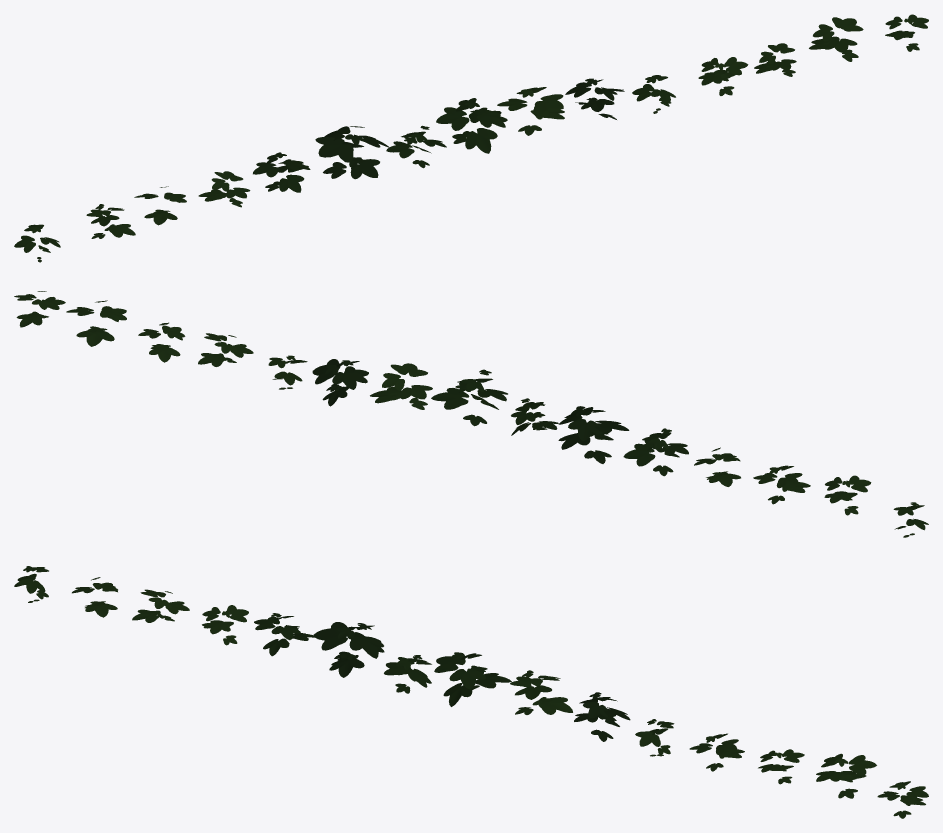
Rendered from ROW_00_SEG0_foliage.dae.
The picture shows the model from 3 angles, top to bottom: view 1: azimuth 30°, elevation 25°; view 2: azimuth 150°, elevation 25°; view 3: azimuth 330°, elevation 25°; orthographic projection.
Parts seen in each view (by area): view 1: ROW_00_SEG0_foliage; view 2: ROW_00_SEG0_foliage; view 3: ROW_00_SEG0_foliage.
Part boxes in pixels (x1,y1,x2,y2): ROW_00_SEG0_foliage: (14,14,928,262); ROW_00_SEG0_foliage: (14,291,928,537); ROW_00_SEG0_foliage: (14,566,928,818).
Size of the model in its own units: 4.5 by 0.3377 by 0.2765.
